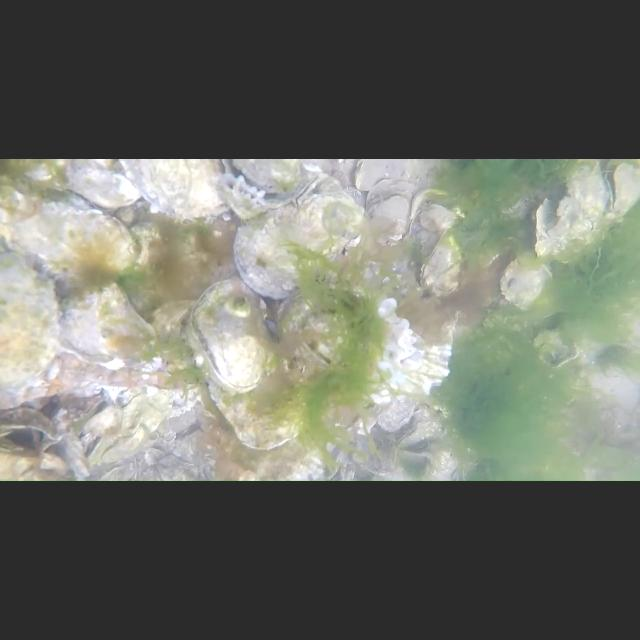Oyster-Closed: (0, 185, 136, 283), (0, 254, 59, 388), (209, 369, 305, 450), (60, 284, 155, 359), (378, 298, 451, 394), (155, 218, 236, 300), (278, 295, 345, 381), (234, 224, 298, 300), (66, 160, 141, 209), (366, 179, 416, 245), (500, 252, 551, 310), (121, 389, 174, 436), (421, 235, 461, 296), (88, 426, 148, 466), (232, 160, 301, 194), (0, 160, 66, 191), (0, 186, 36, 234), (378, 398, 416, 432), (84, 415, 99, 434), (94, 400, 106, 414)
Oyster-Open: (188, 276, 276, 392), (533, 160, 613, 262), (0, 406, 70, 479), (398, 405, 446, 479), (351, 424, 406, 480), (601, 159, 640, 220), (218, 174, 268, 220), (534, 330, 579, 367)
